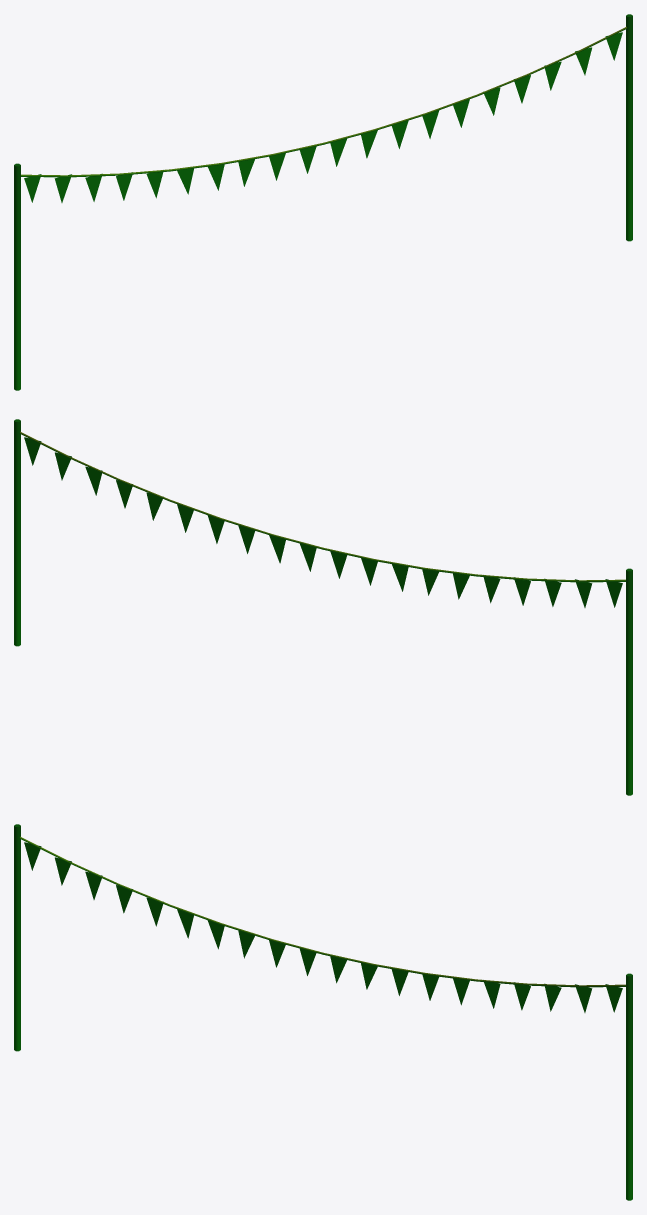
The model's file is bunting_12m.glb.
The picture shows the model from 3 angles, top to bottom: view 1: azimuth 30°, elevation 25°; view 2: azimuth 150°, elevation 25°; view 3: azimuth 330°, elevation 25°; orthographic projection.
Parts seen in each view (by area): view 1: bunting_12m; view 2: bunting_12m; view 3: bunting_12m.
Boxes of the visible parts, <box> form: bunting_12m: <box>14,14,632,390</box>; bunting_12m: <box>14,419,632,795</box>; bunting_12m: <box>14,824,632,1200</box>.
Size of what is drawn, in the model's own units: 12.1 by 4.2 by 0.12.
